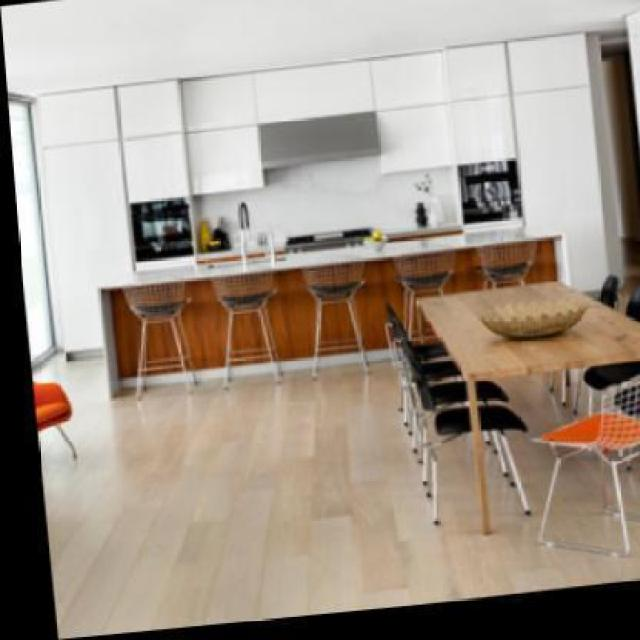tables: (414, 280, 638, 535)
